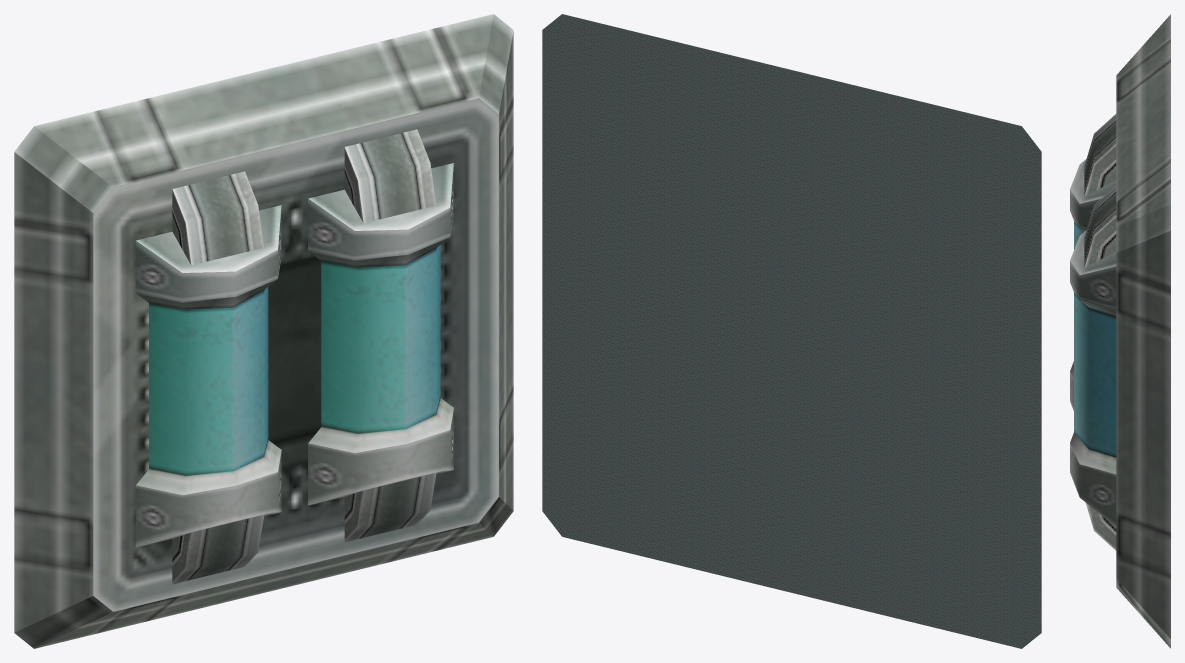
The model's file is Battery_double.FBX.
The picture shows the model from 3 angles, left to right: view 1: azimuth 30°, elevation 25°; view 2: azimuth 150°, elevation 25°; view 3: azimuth 270°, elevation 25°; orthographic projection. The views are drawn at different scales.
Visible parts, largest first — view 1: Battery_double; view 2: Battery_double; view 3: Battery_double.
Part boxes in pixels (box(x1,y1,x2,y2)): Battery_double: box(14, 14, 513, 648); Battery_double: box(542, 14, 1041, 648); Battery_double: box(1070, 14, 1170, 648).
Size of the model in its own units: 150 by 150 by 30.89.
